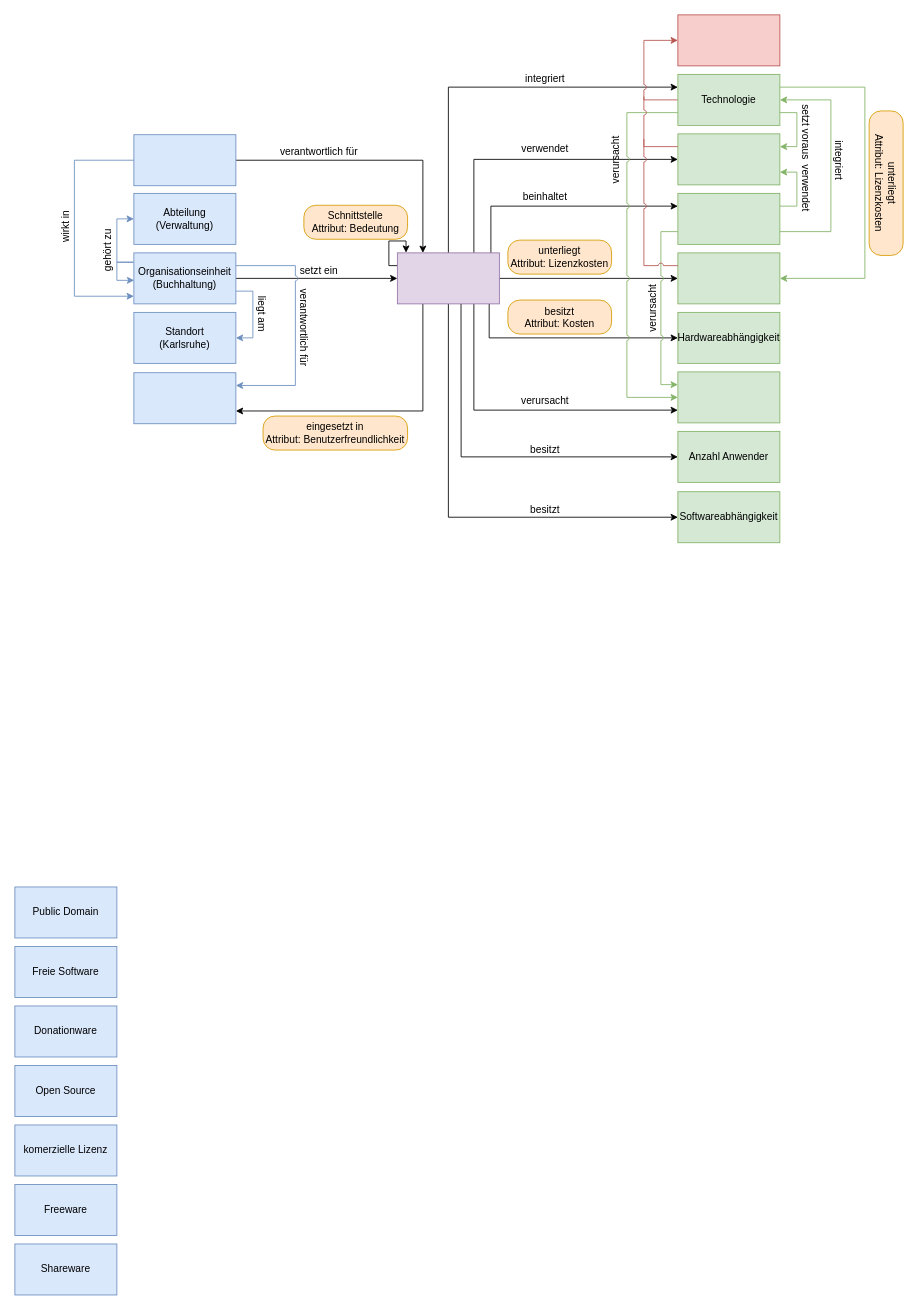
The diagram is 918 pixels wide and 1310 high, and some of its shapes have lost their labels. The box of each missing label's shape, as (x1, y1, x2, y2) in pixels:
Administrativer- / Betreuungsaufwand: (677, 371, 780, 423)
Eigene Entwicklungen: (677, 193, 780, 244)
Externe Abhängigkeit: (677, 14, 780, 66)
Fachlicher Prozess (Bilanzierung): (133, 372, 236, 424)
Informationssystem: (397, 252, 499, 304)
Lizenztyp: (677, 252, 780, 304)
Person: (133, 134, 236, 186)
Standard: (677, 133, 780, 185)
